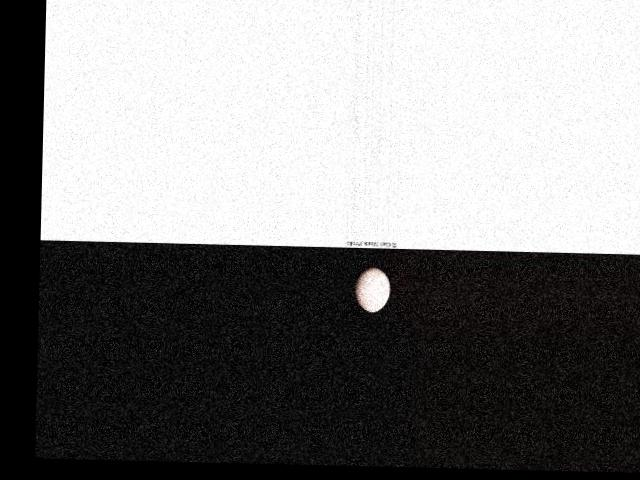egg: (354, 266, 389, 312)
